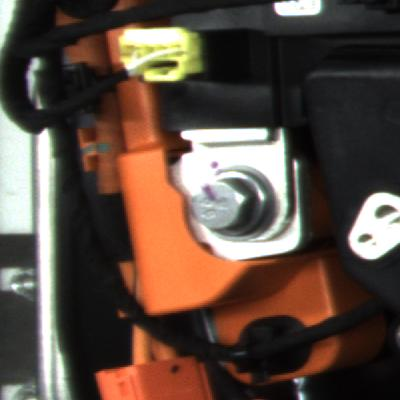nut_b: (186, 154, 280, 254)
